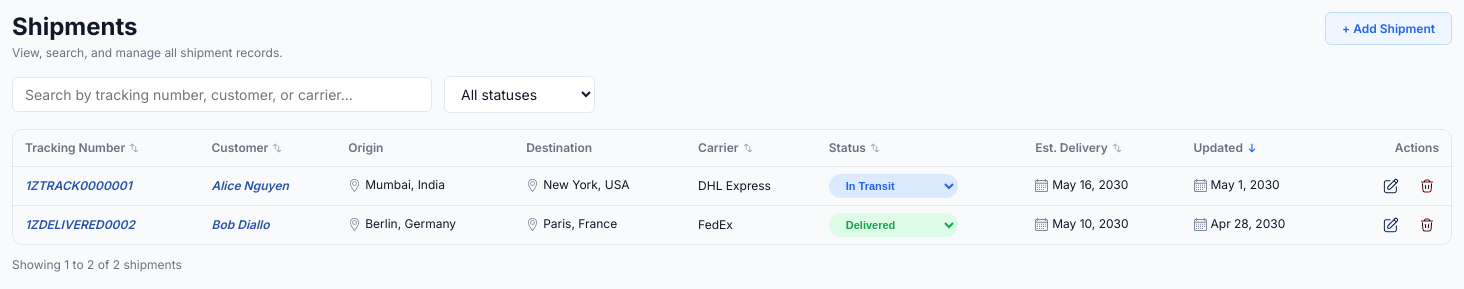
Test case: ShipmentManager › filters the table down to only the selected status
Expected: the button "1ZTRACK0000001" is shown, [25, 180, 132, 192]
Expected: the button "1ZDELIVERED0002" is shown, [25, 219, 135, 231]
Select "Delivered" in the dropdown named "Filter by status" at coordinates (520, 94), box [444, 76, 595, 113]
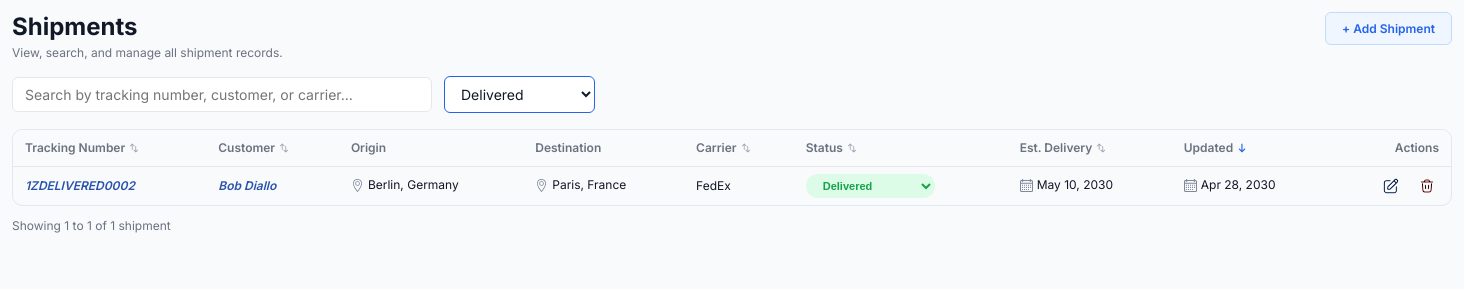
Expected: the button "1ZDELIVERED0002" is shown, [25, 180, 135, 192]
Result: the button "1ZTRACK0000001" is gone
Select "All statuses" in the dropdown named "Filter by status" at coordinates (520, 94), box [444, 76, 595, 113]
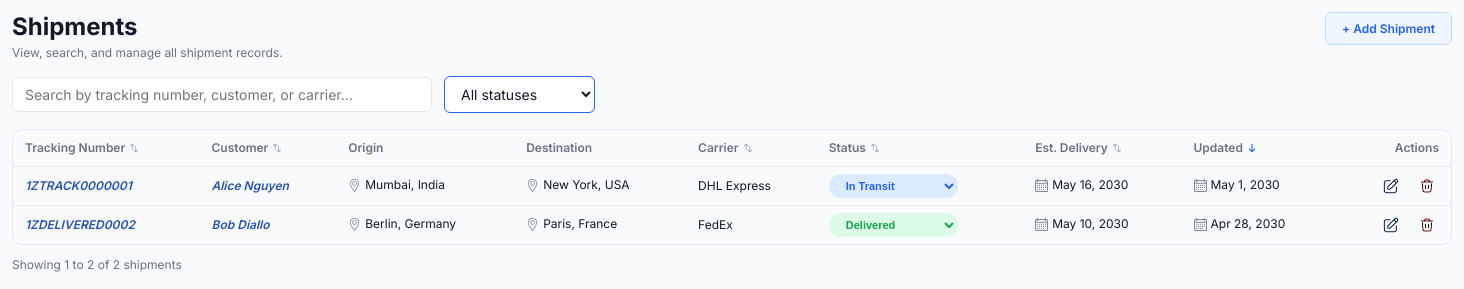
Result: the button "1ZTRACK0000001" is shown at [25, 180, 132, 192]
